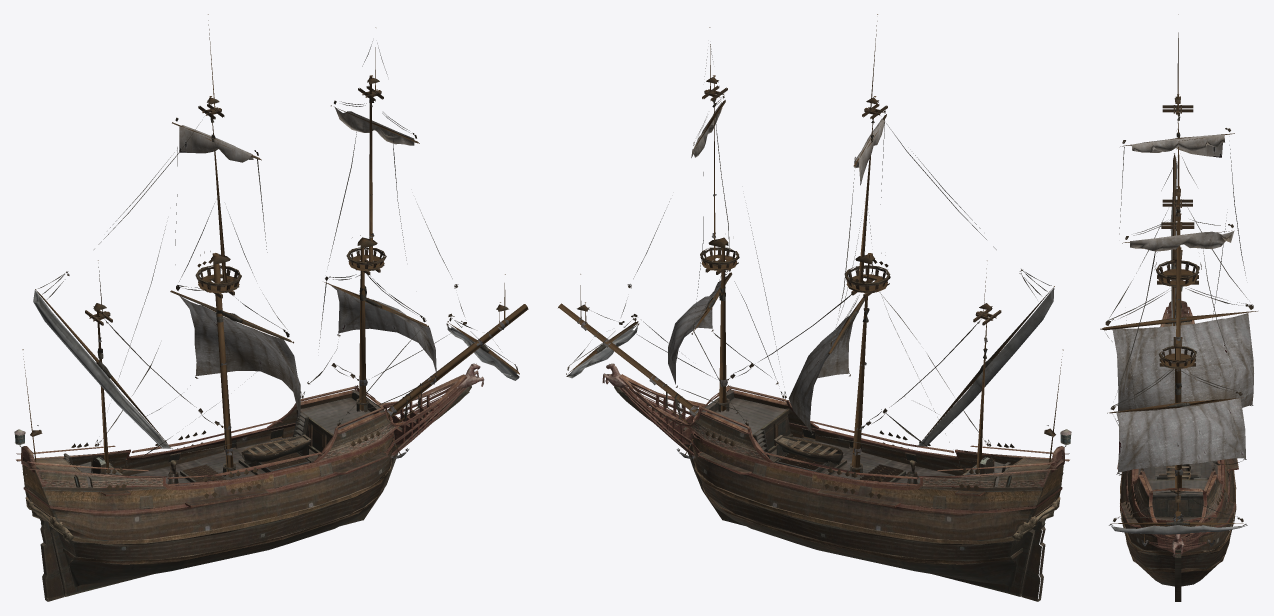
Rendered from dutch_ship_medium.glb.
3 renders of one model, left to right at view 1: azimuth 30°, elevation 25°; view 2: azimuth 150°, elevation 25°; view 3: azimuth 270°, elevation 25°, orthographic. The views are drawn at different scales.
Visible parts, largest first — view 1: dutch_ship_medium; view 2: dutch_ship_medium; view 3: dutch_ship_medium.
Boxes of the visible parts, <box> form: dutch_ship_medium: <box>14,14,528,601</box>; dutch_ship_medium: <box>558,14,1071,601</box>; dutch_ship_medium: <box>1100,14,1257,601</box>.
Size of the model in its own units: 24.08 by 24.54 by 6.81.
3 materials, 3 textured.
